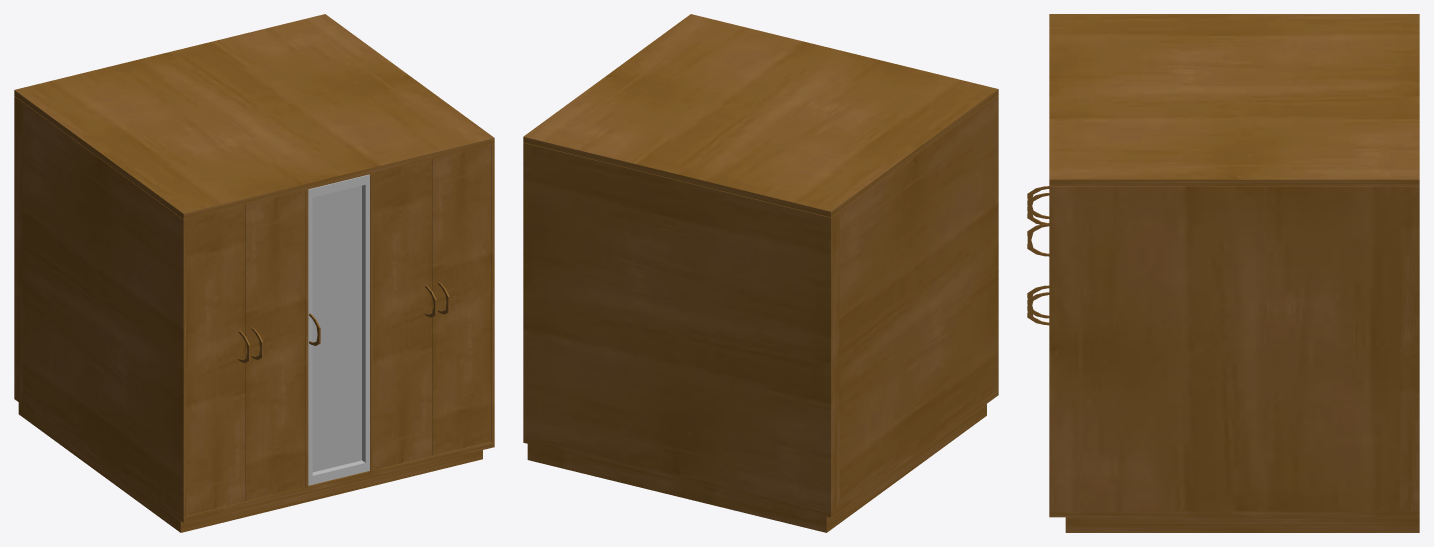
File: sh-scopia-office-furniture1.glb
The picture shows the model from 3 angles, left to right: view 1: azimuth 30°, elevation 25°; view 2: azimuth 150°, elevation 25°; view 3: azimuth 270°, elevation 25°; orthographic projection. The views are drawn at different scales.
Parts seen in each view (by area): view 1: oficina_armario_Cube.000, glass_Cube; view 2: oficina_armario_Cube.000; view 3: oficina_armario_Cube.000.
Boxes of the visible parts, bbox=[...] form: oficina_armario_Cube.000: bbox=[14, 14, 494, 532]; glass_Cube: bbox=[312, 185, 361, 472]; oficina_armario_Cube.000: bbox=[523, 14, 998, 532]; oficina_armario_Cube.000: bbox=[1027, 14, 1419, 532].
Size of the model in its own units: 1 by 1 by 1.
5 materials, 2 textured.
